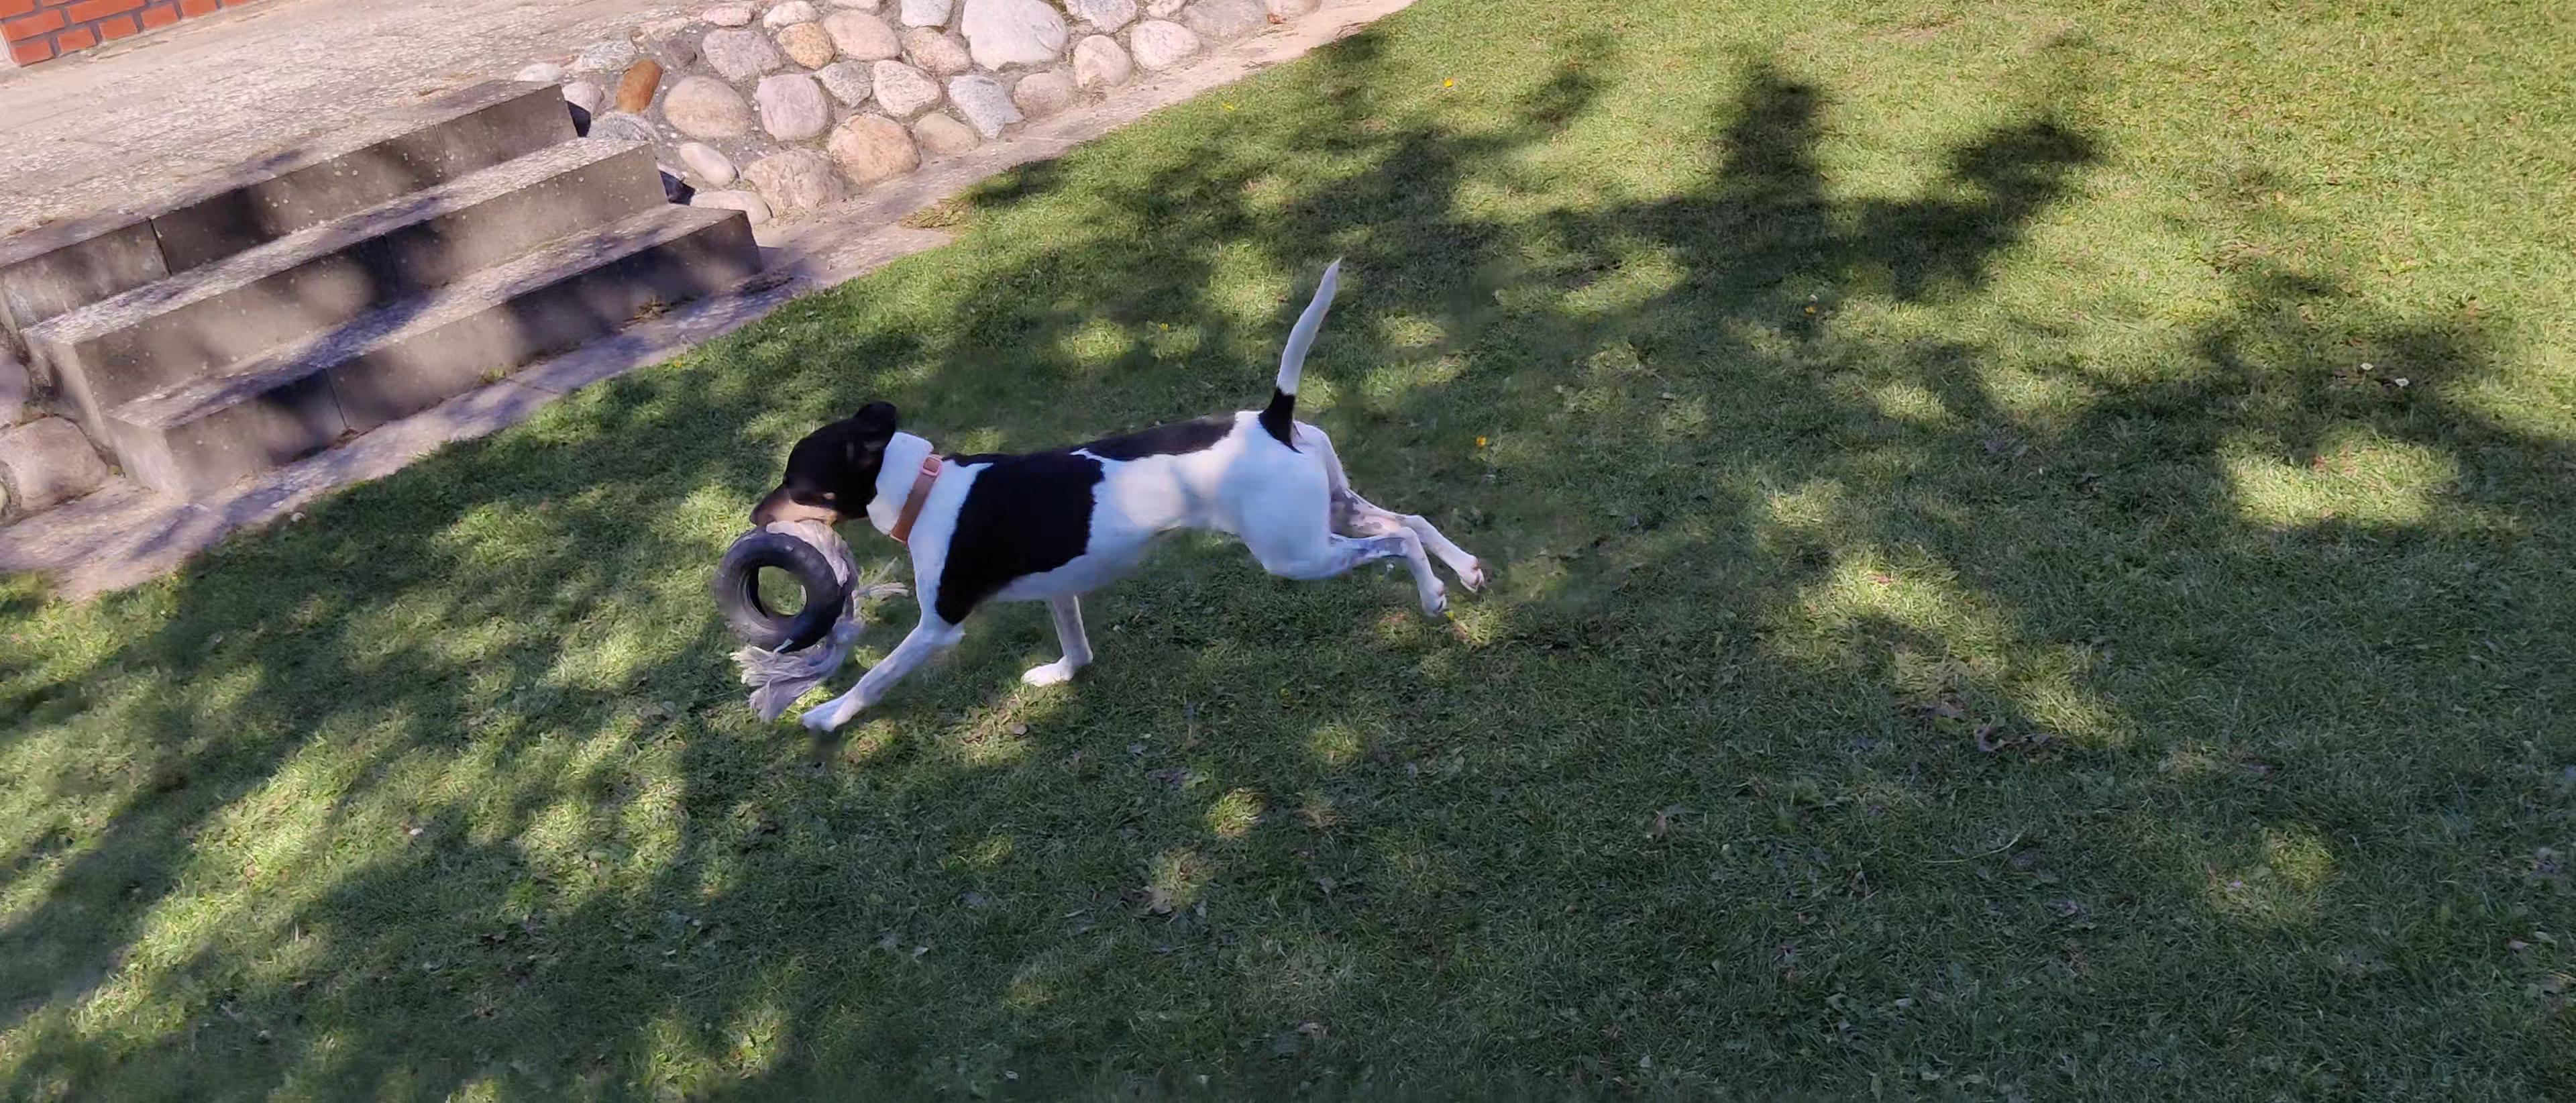Dog: (734, 240, 1498, 741)
